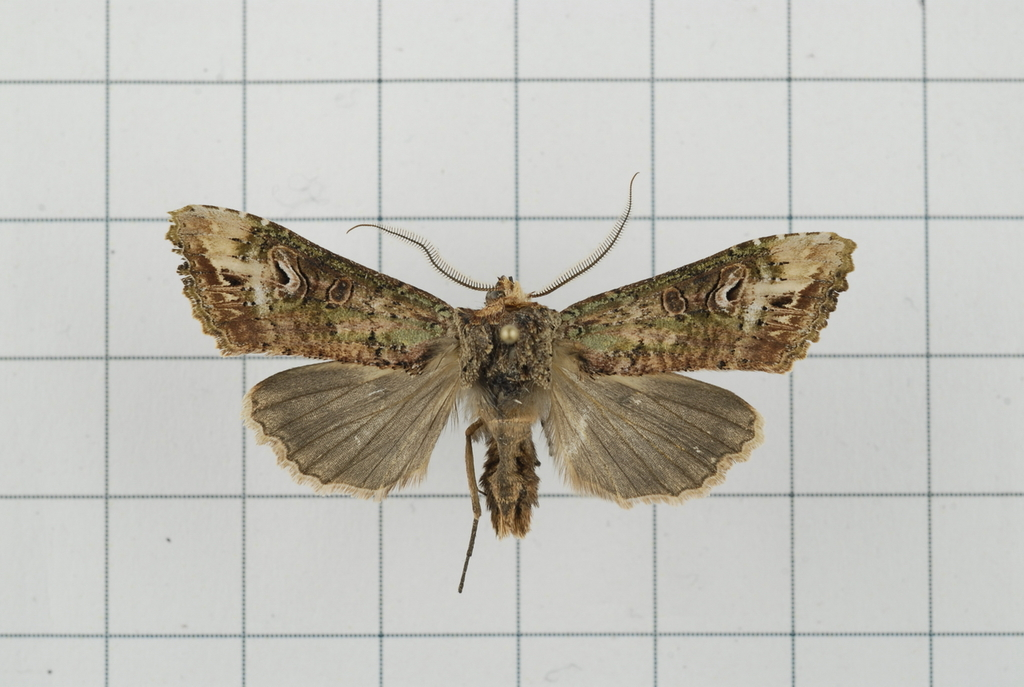Butterfly: (156, 198, 875, 539)
